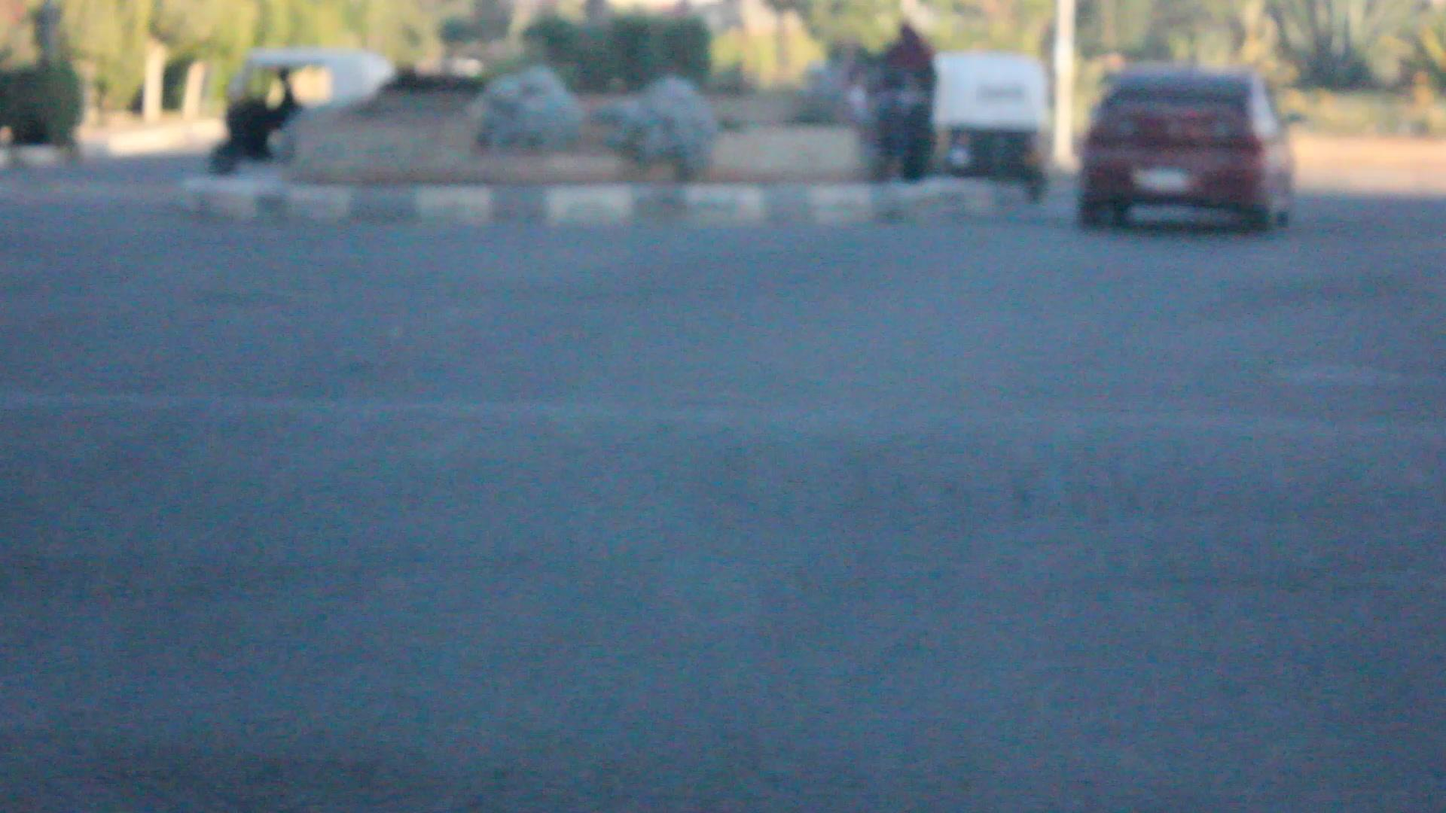Bump: (21, 352, 1446, 587)
